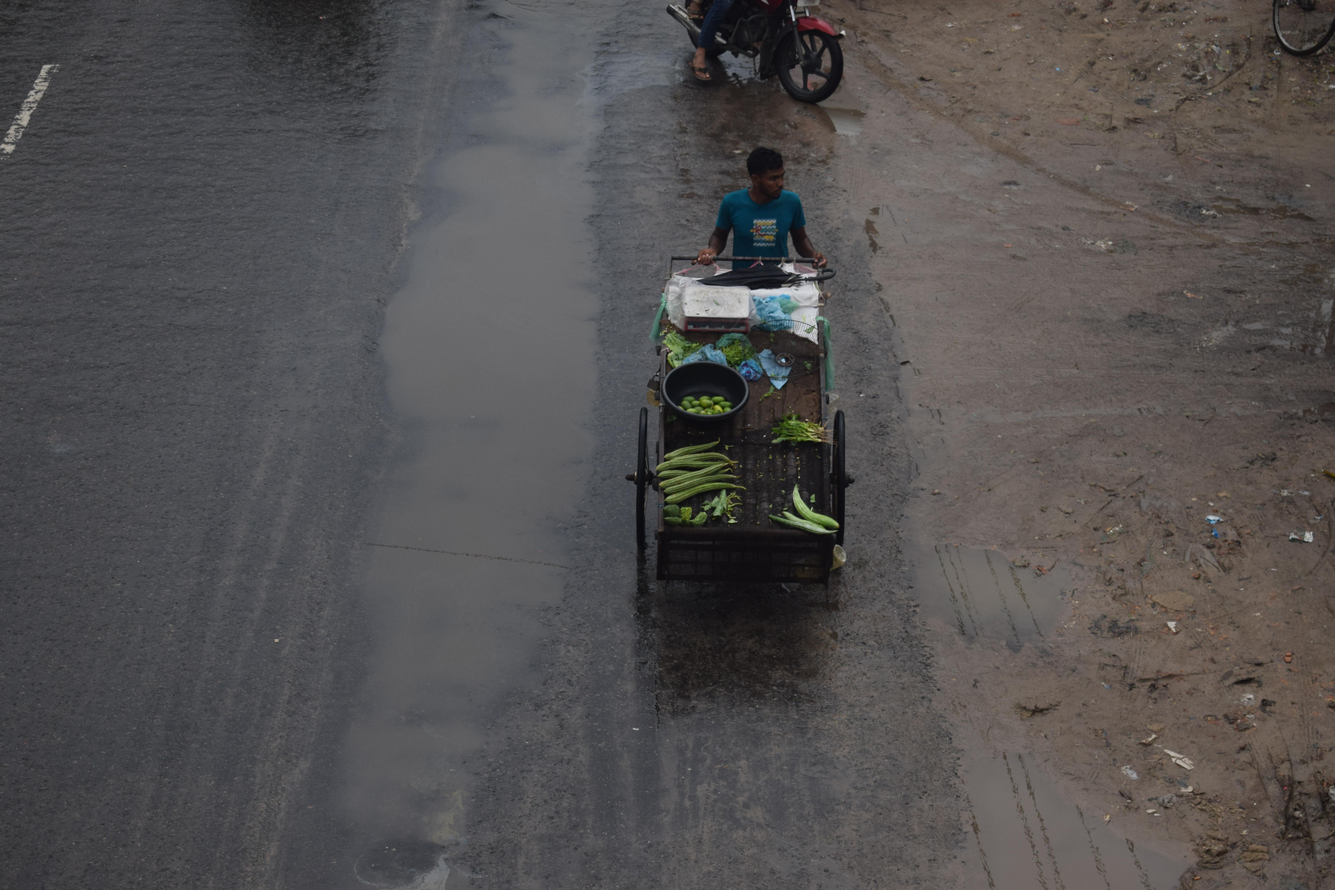Bike: (631, 0, 878, 139)
